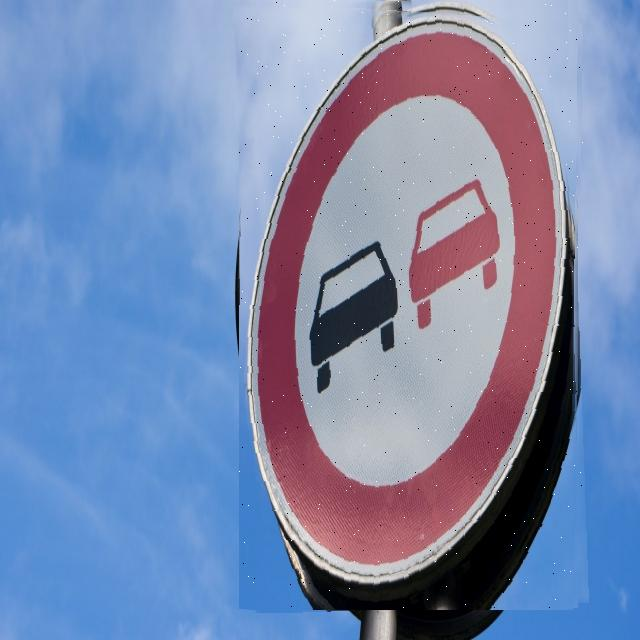no overtaking: (239, 0, 583, 610)
